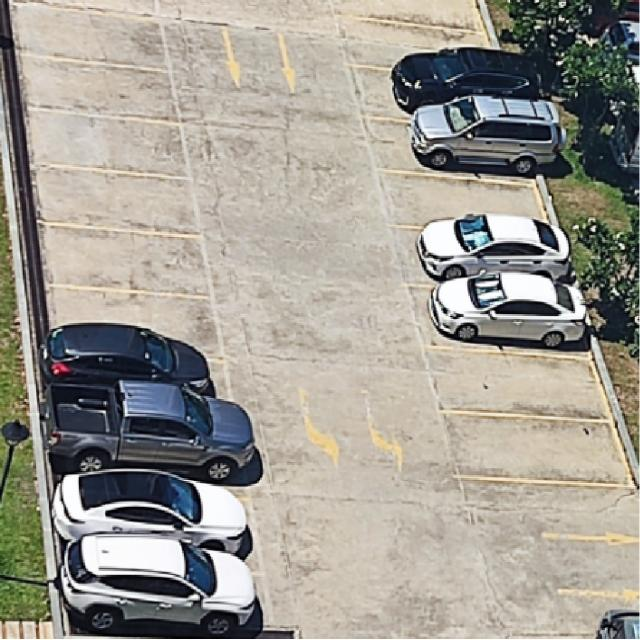car: (42, 380, 262, 482), (60, 533, 262, 636), (52, 469, 252, 560), (41, 322, 215, 397), (430, 271, 589, 349), (409, 96, 565, 173), (416, 213, 570, 280), (391, 47, 541, 113)
freeslot: (432, 403, 638, 492), (41, 280, 233, 369), (33, 216, 219, 305), (419, 342, 620, 423), (369, 167, 563, 250), (22, 105, 198, 190), (12, 48, 192, 130), (24, 160, 209, 238), (7, 1, 180, 80)
